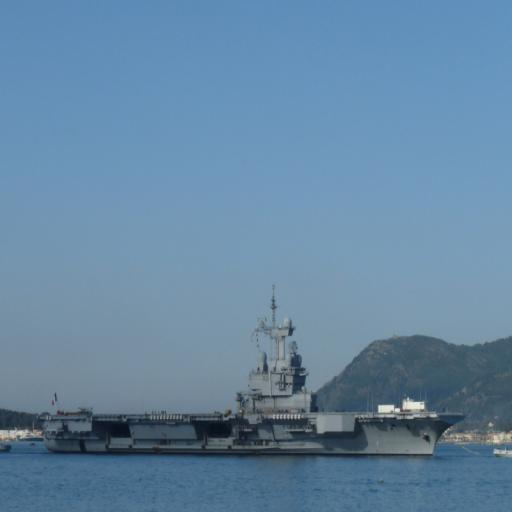Portanaves: (38, 283, 469, 465)
